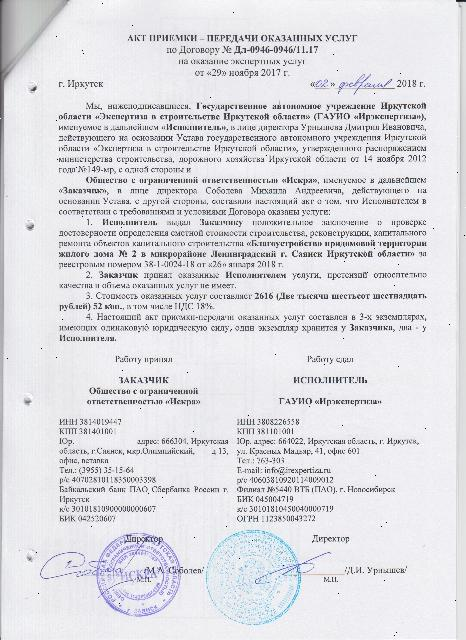stamp: (206, 529, 300, 625), (97, 532, 180, 616)
